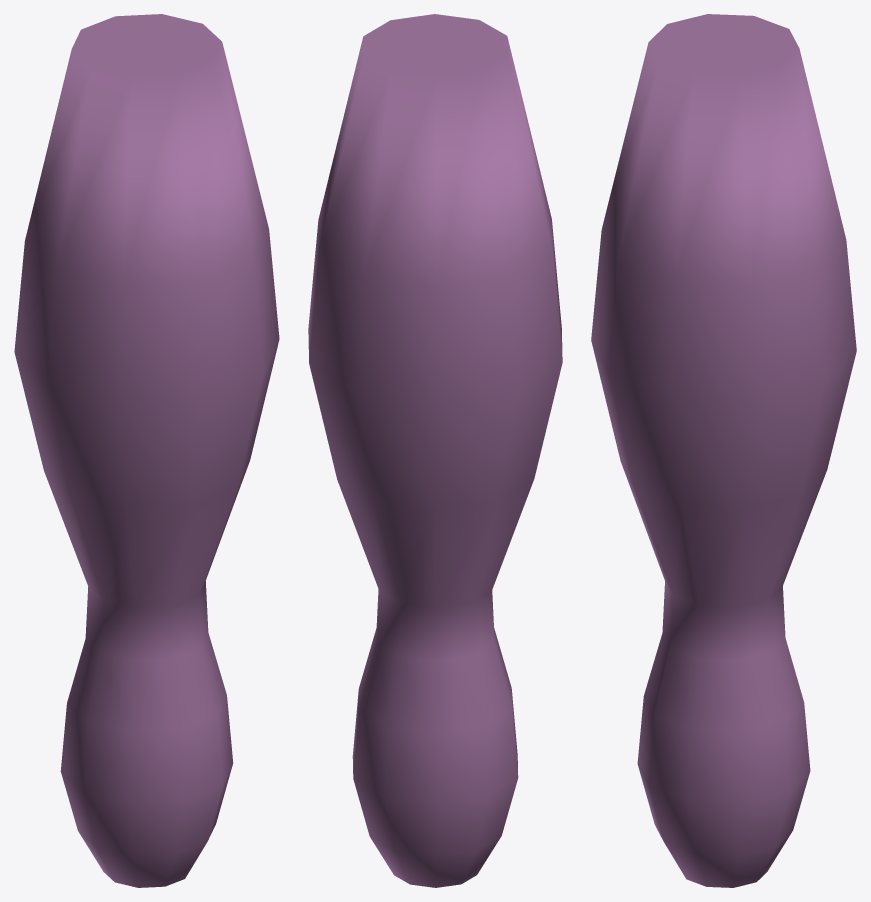
Rendered from Pine.fbx.
The picture shows the model from 3 angles, left to right: view 1: azimuth 30°, elevation 25°; view 2: azimuth 150°, elevation 25°; view 3: azimuth 270°, elevation 25°; orthographic projection.
Parts seen in each view (by area): view 1: Pine; view 2: Pine; view 3: Pine.
Part boxes in pixels (left/top/right/bottom): Pine: left=14, top=14, right=279, bottom=887; Pine: left=308, top=14, right=562, bottom=887; Pine: left=591, top=14, right=856, bottom=887.
Size of the model in its own units: 46.73 by 165 by 47.66.
